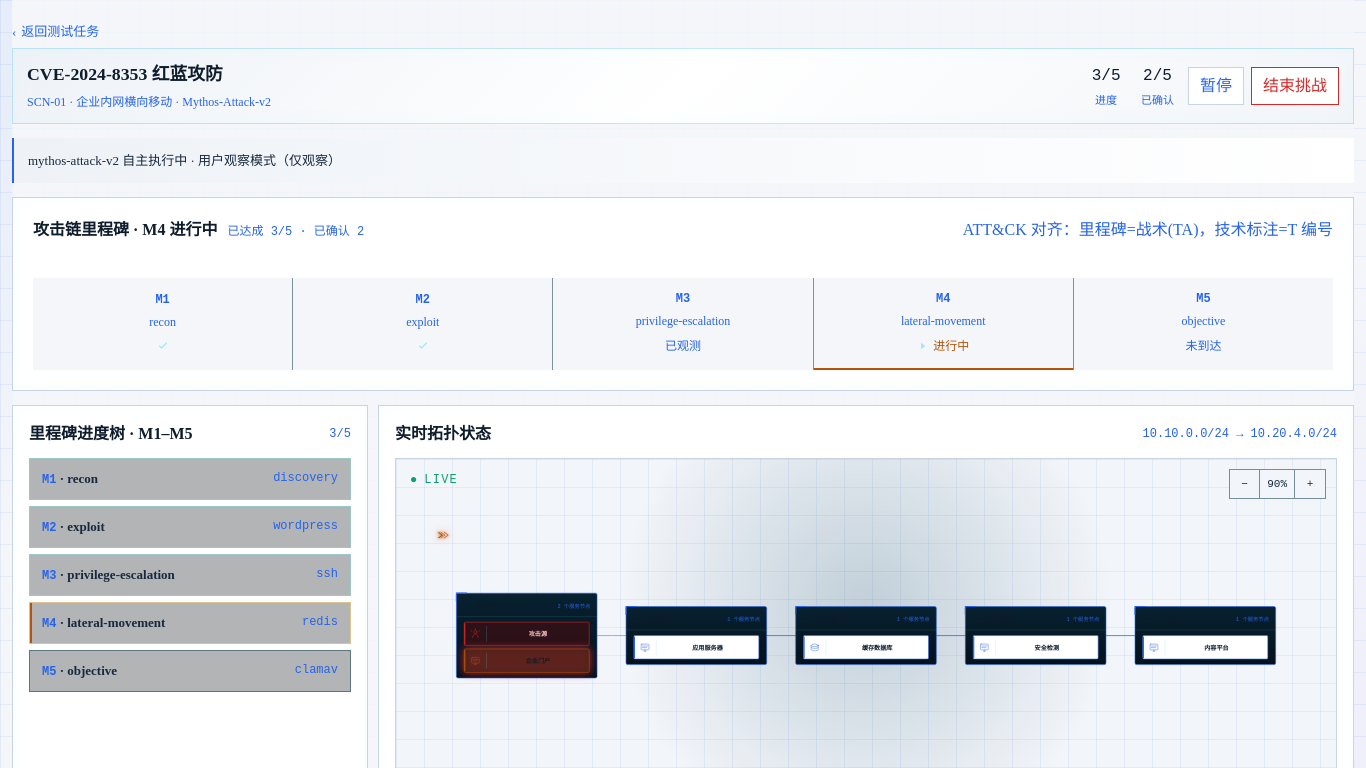
Test: Workbench › TC-RUN-005 pauses, resumes, and ends the running challenge with settlement feedback
This screenshot has width=1366, height=768.
Click the button "暂停" at point(1216, 86), box [1188,67,1244,105]
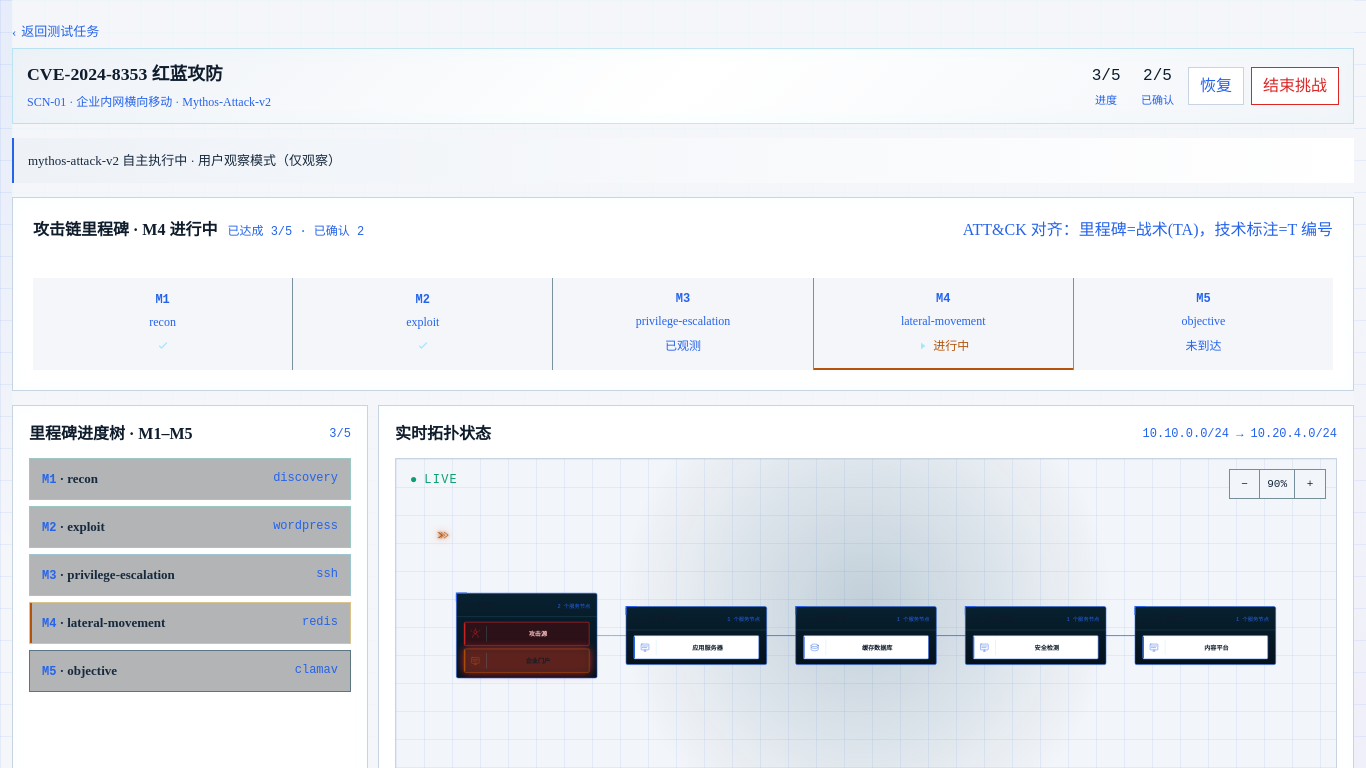
Now the button "恢复" is shown
Click the button "恢复" at point(1216, 86), box [1188,67,1244,105]
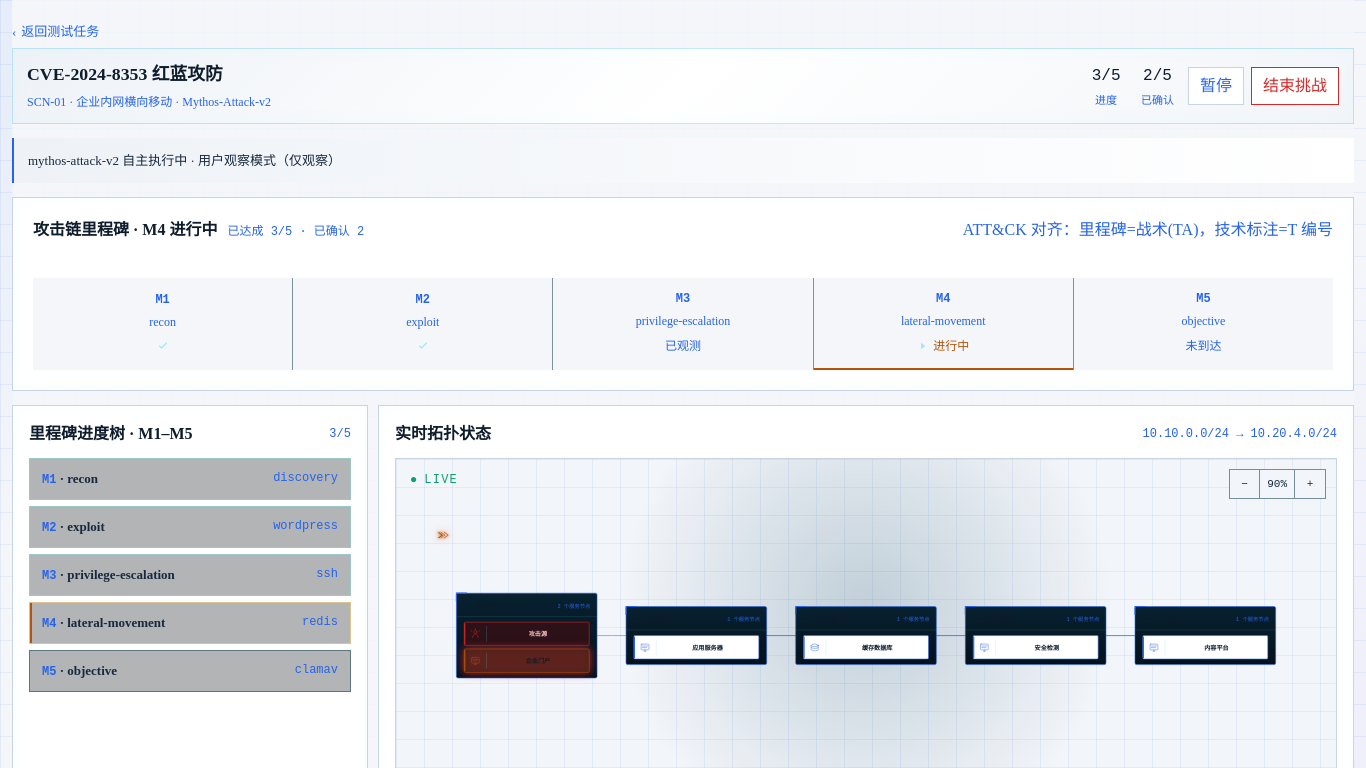
Now the button "暂停" is shown, box [1188,67,1244,105]
Click the button "结束挑战" at point(1295, 86), box [1251,67,1339,105]
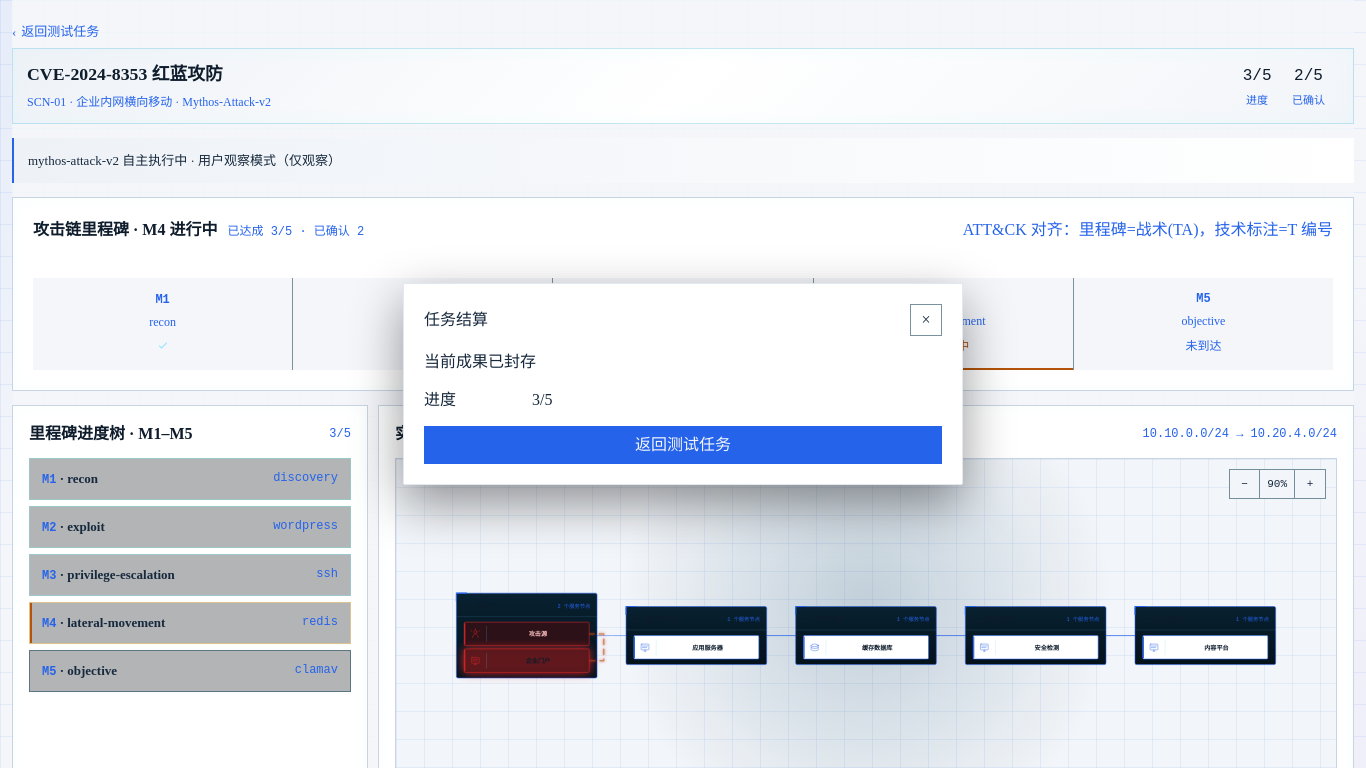
Now the text "3/5" below "当前成果已封存" is shown, box [532,391,552,408]
